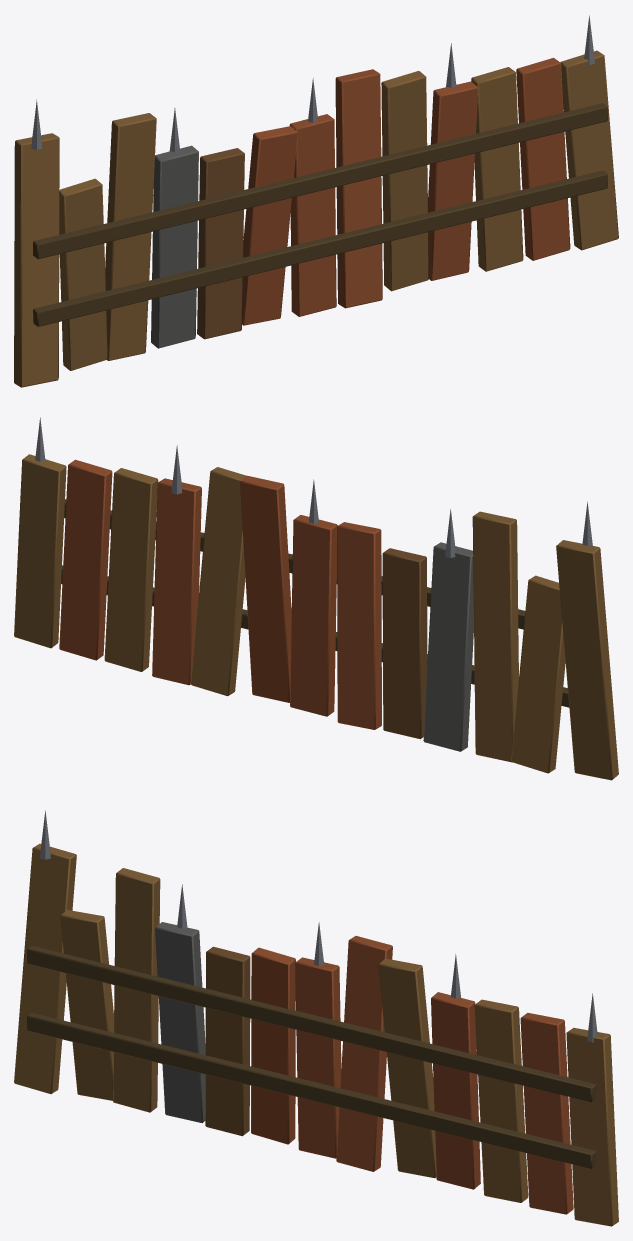
The model's file is barricade.glb.
3 renders of one model, top to bottom at view 1: azimuth 30°, elevation 25°; view 2: azimuth 150°, elevation 25°; view 3: azimuth 330°, elevation 25°, orthographic.
Visible parts, largest first — view 1: barricade; view 2: barricade; view 3: barricade.
Part boxes in pixels (x1,y1,x2,y2): barricade: [14, 15, 618, 387]; barricade: [14, 417, 618, 780]; barricade: [14, 810, 618, 1226].
Size of the model in its own units: 6.53 by 2.91 by 0.3439.
